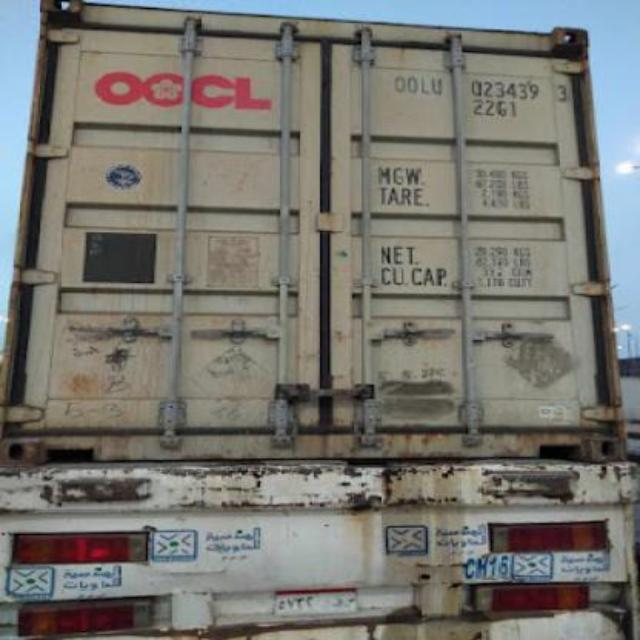0: (468, 75, 482, 98)
2: (482, 75, 494, 98)
3: (552, 78, 568, 100), (516, 78, 530, 102), (494, 76, 506, 100)
4: (506, 75, 518, 101)
9: (526, 74, 542, 104)
L: (418, 72, 430, 100)
O: (404, 73, 418, 97), (391, 74, 404, 95)
U: (431, 70, 444, 100)
